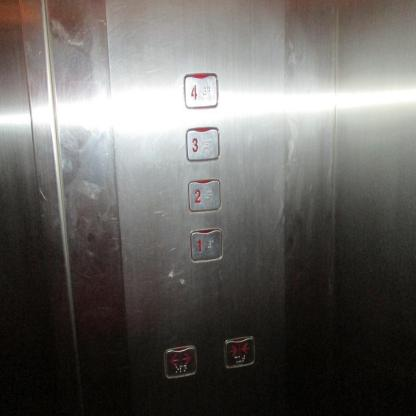1: (187, 226, 227, 263)
2: (186, 178, 222, 212)
3: (183, 124, 222, 166)
4: (181, 69, 220, 110)
close: (220, 334, 259, 370)
open: (162, 342, 200, 381)
